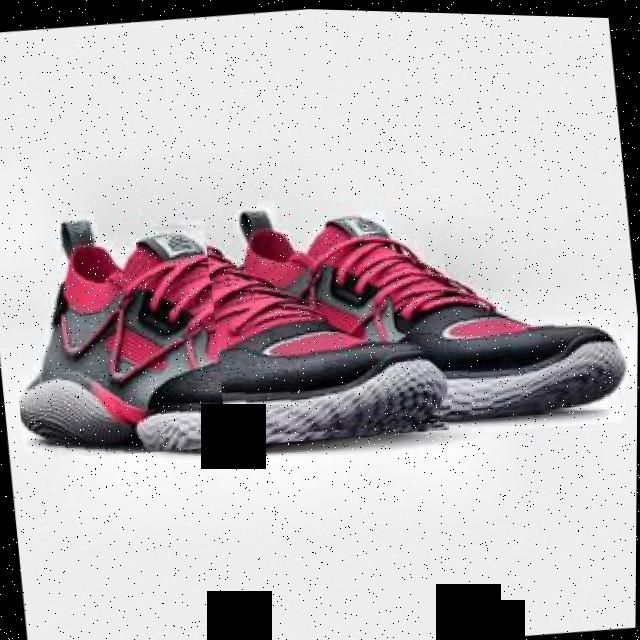shoe: (1, 183, 456, 471), (202, 169, 633, 446)
